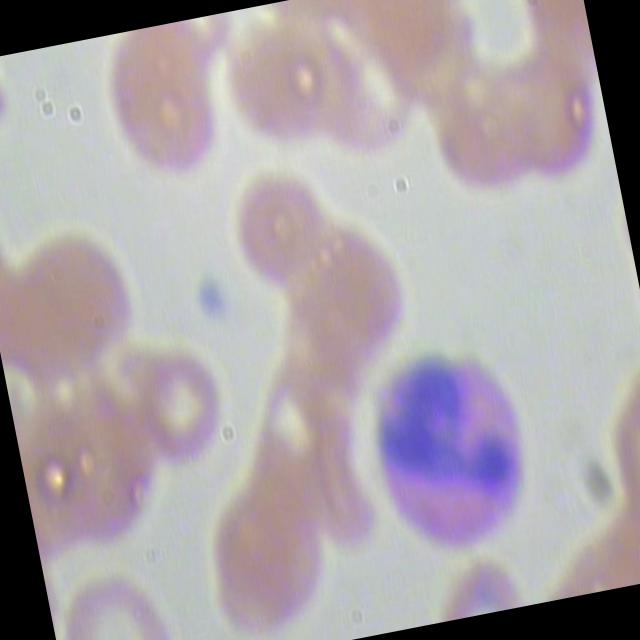Platelets: (188, 266, 236, 332)
WBC: (346, 328, 560, 577)
